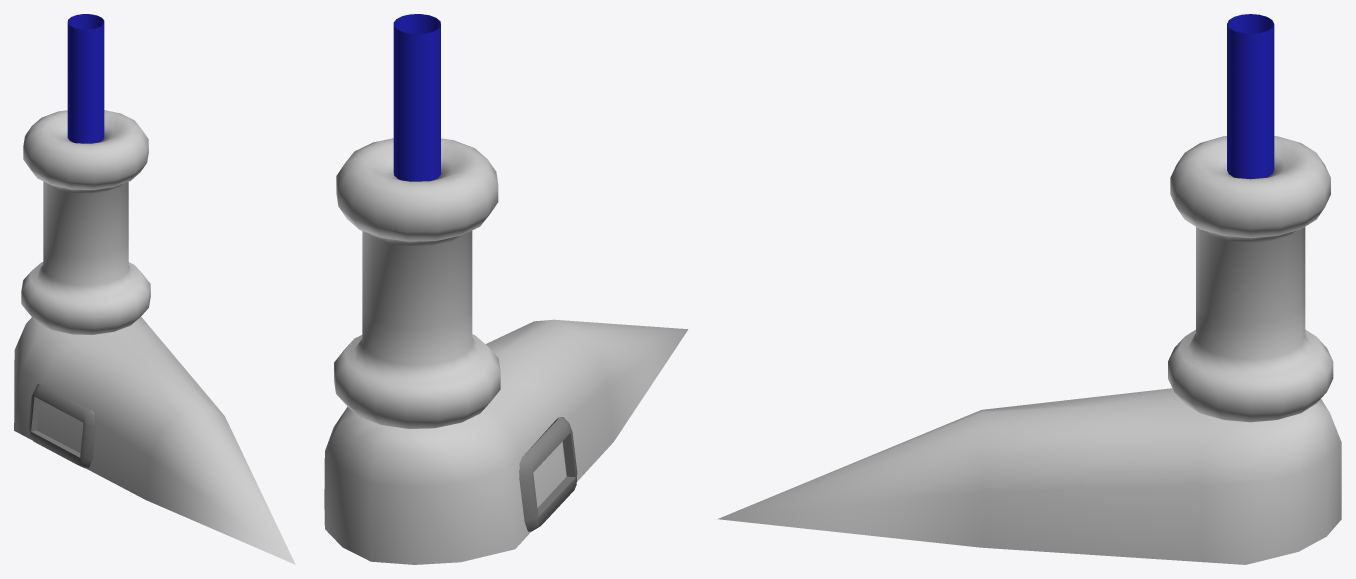
File: SonicLeftLeg.obj
3 renders of one model, left to right at view 1: azimuth 30°, elevation 25°; view 2: azimuth 150°, elevation 25°; view 3: azimuth 270°, elevation 25°, orthographic. The views are drawn at different scales.
Parts seen in each view (by area): view 1: Polygon_2_2; view 2: Polygon_2_2; view 3: Polygon_2_2.
Boxes of the visible parts, x1,y1,x2,y2 form: Polygon_2_2: (14,14,295,564); Polygon_2_2: (324,14,688,564); Polygon_2_2: (717,14,1341,564).
Bounding box in the file's own units: 0.73 × 1.83 × 2.09.
